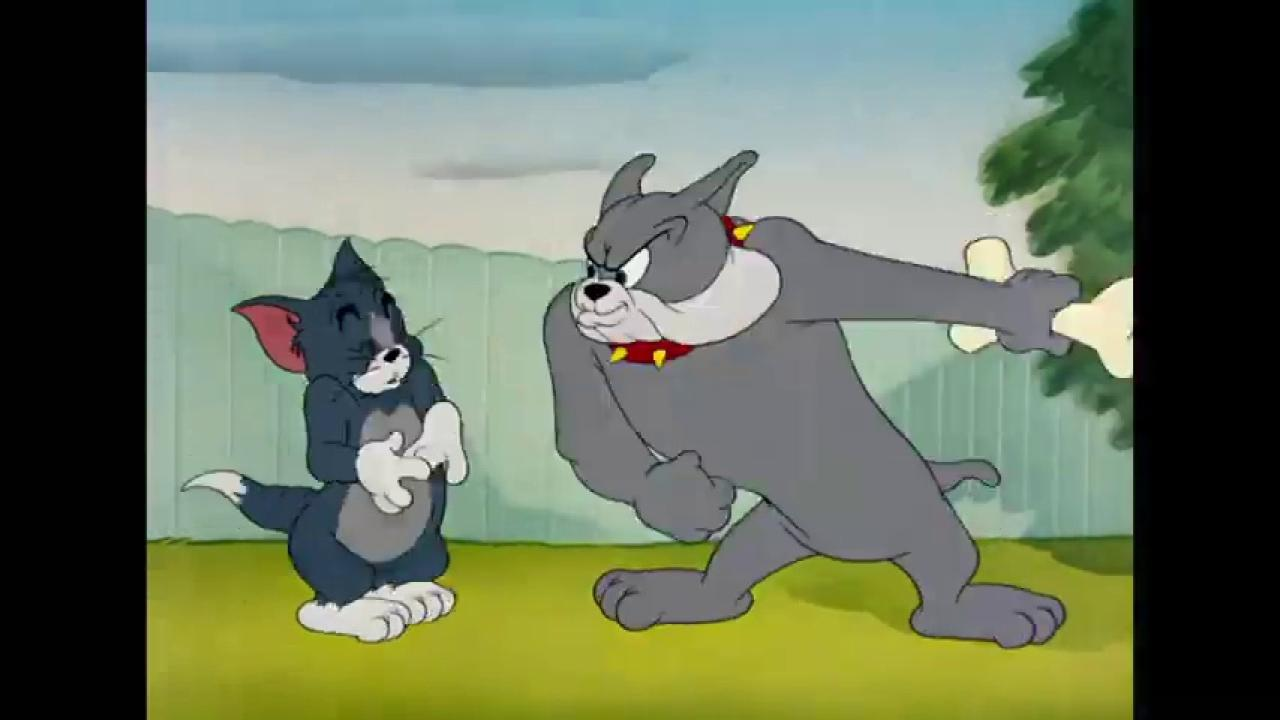Tom: (178, 233, 470, 644)
